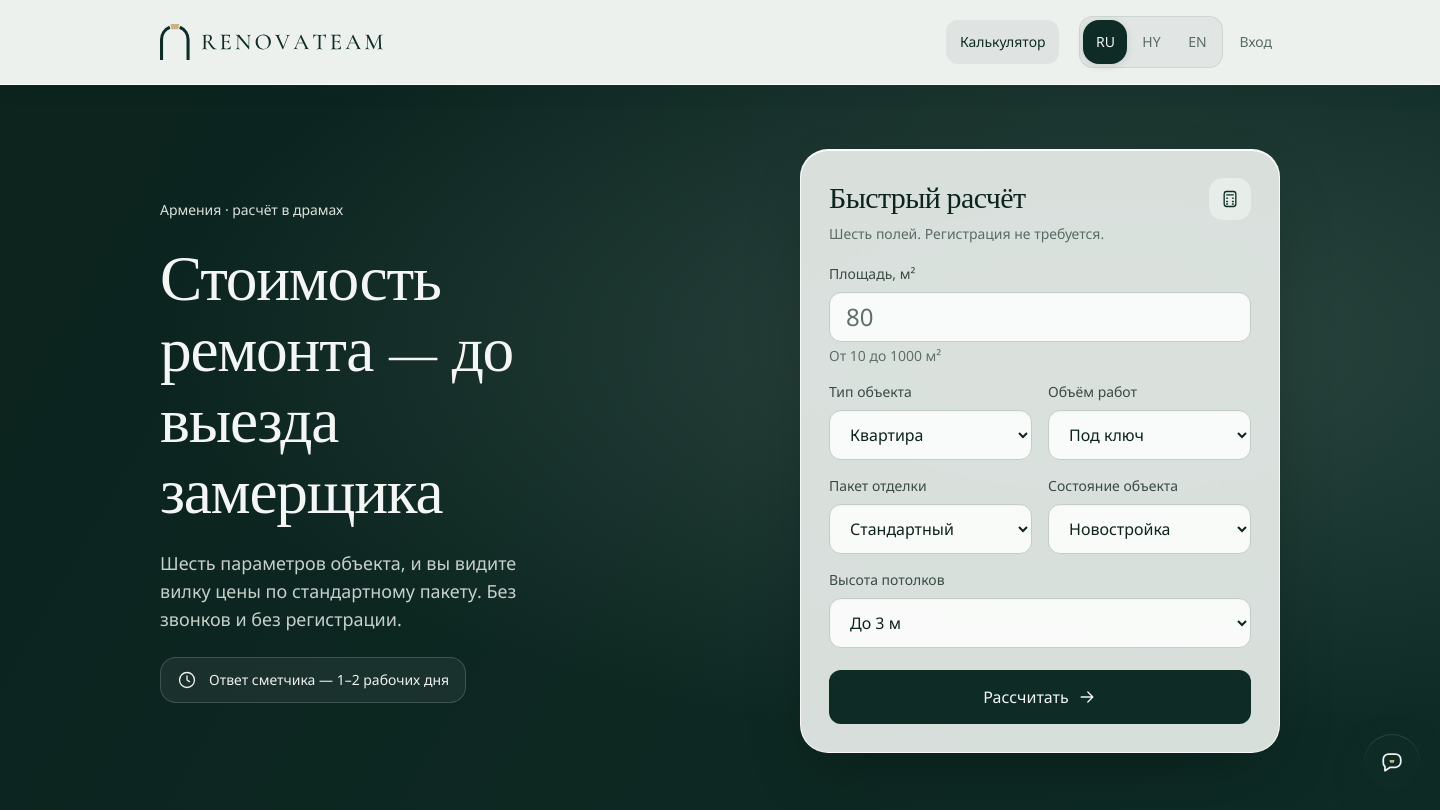
быстрый расчёт › на площадь вне 10–1000 м² выдаёт ошибку и не считает
The image size is (1440, 810).
Type "5" into the number field labelled "Площадь, м²" at (1040, 317), box [829,292,1251,342]
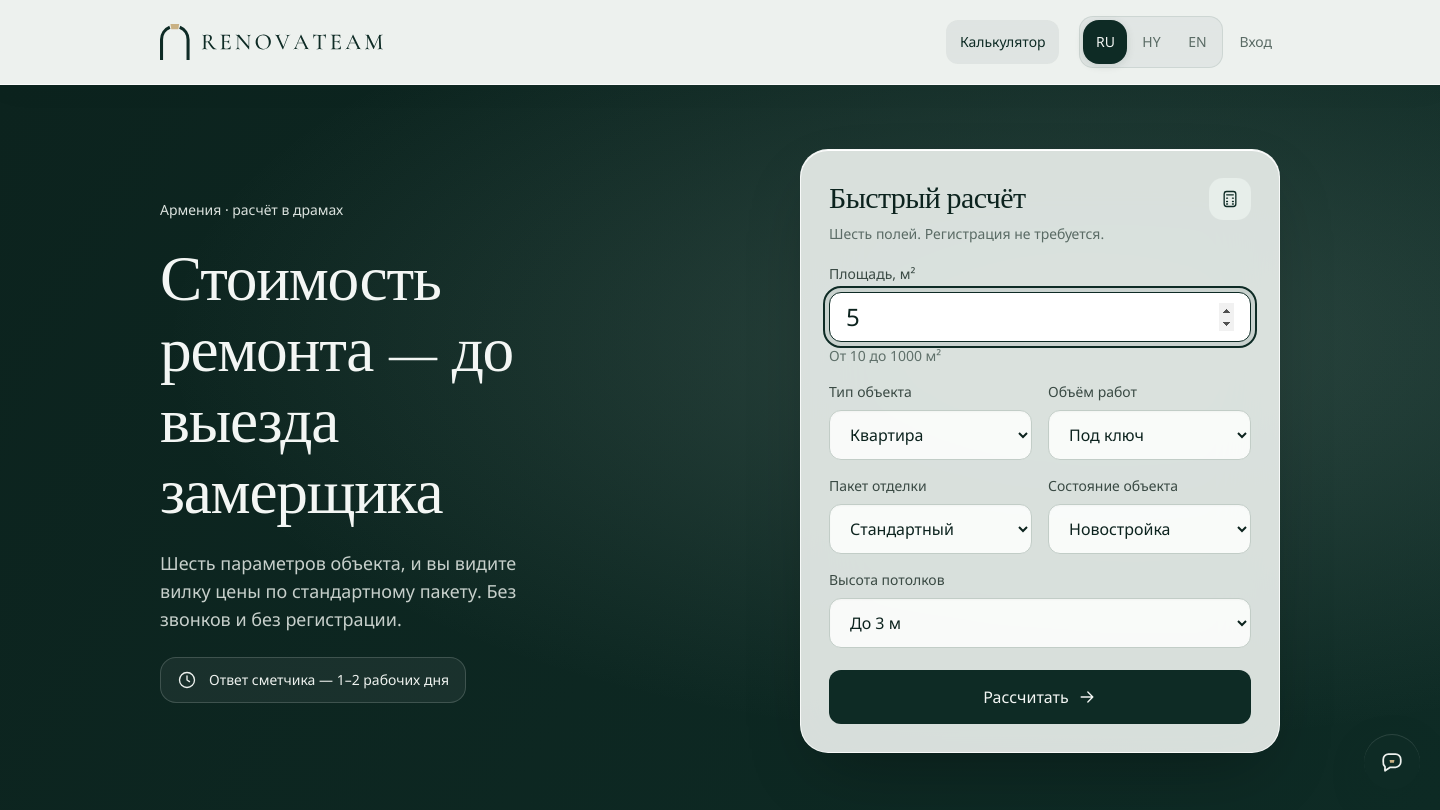
Click the button "Рассчитать" at (1040, 697), box [829,670,1251,724]
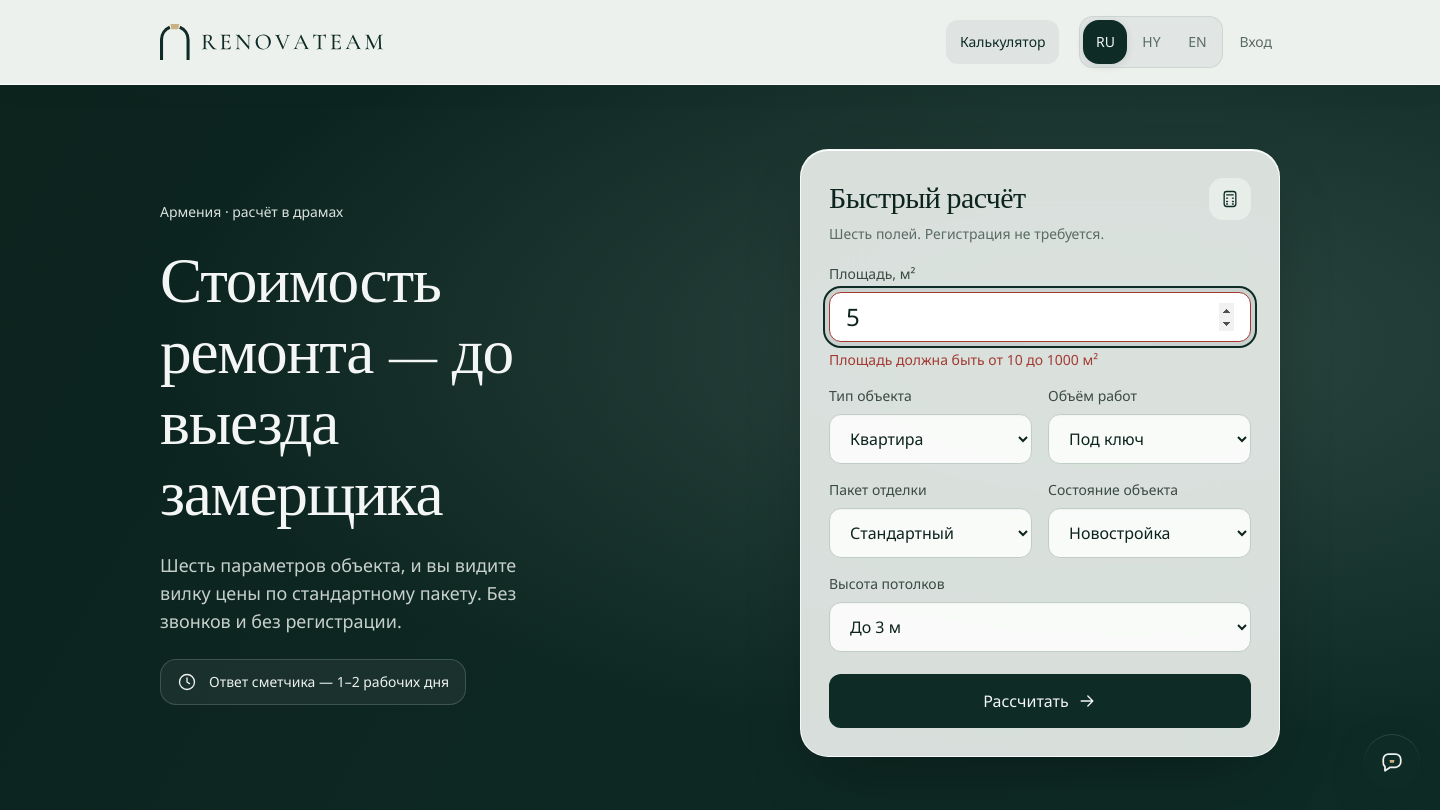
Now the message reads "Площадь должна быть от 10 до 1000 м²", box [829,350,1098,369]
